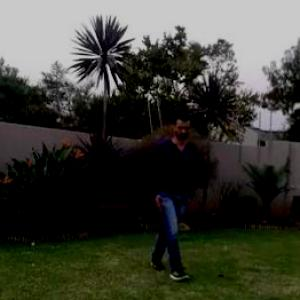follow: (150, 112, 192, 261)
